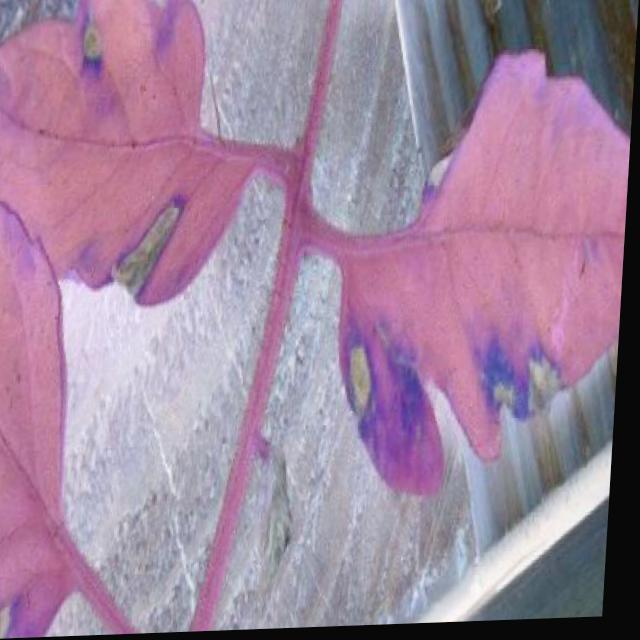Tomato late blight leaf: (319, 5, 638, 527), (0, 0, 271, 356)
